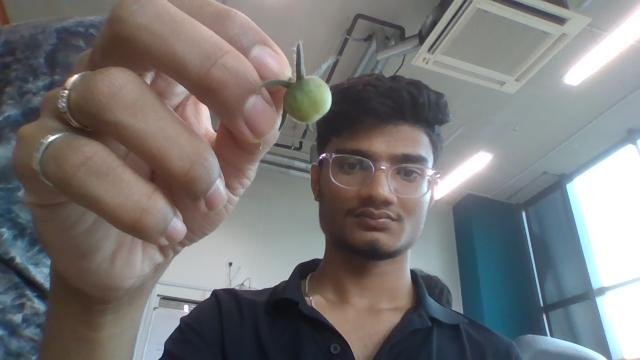Fruit Maturation: (282, 74, 332, 124)
